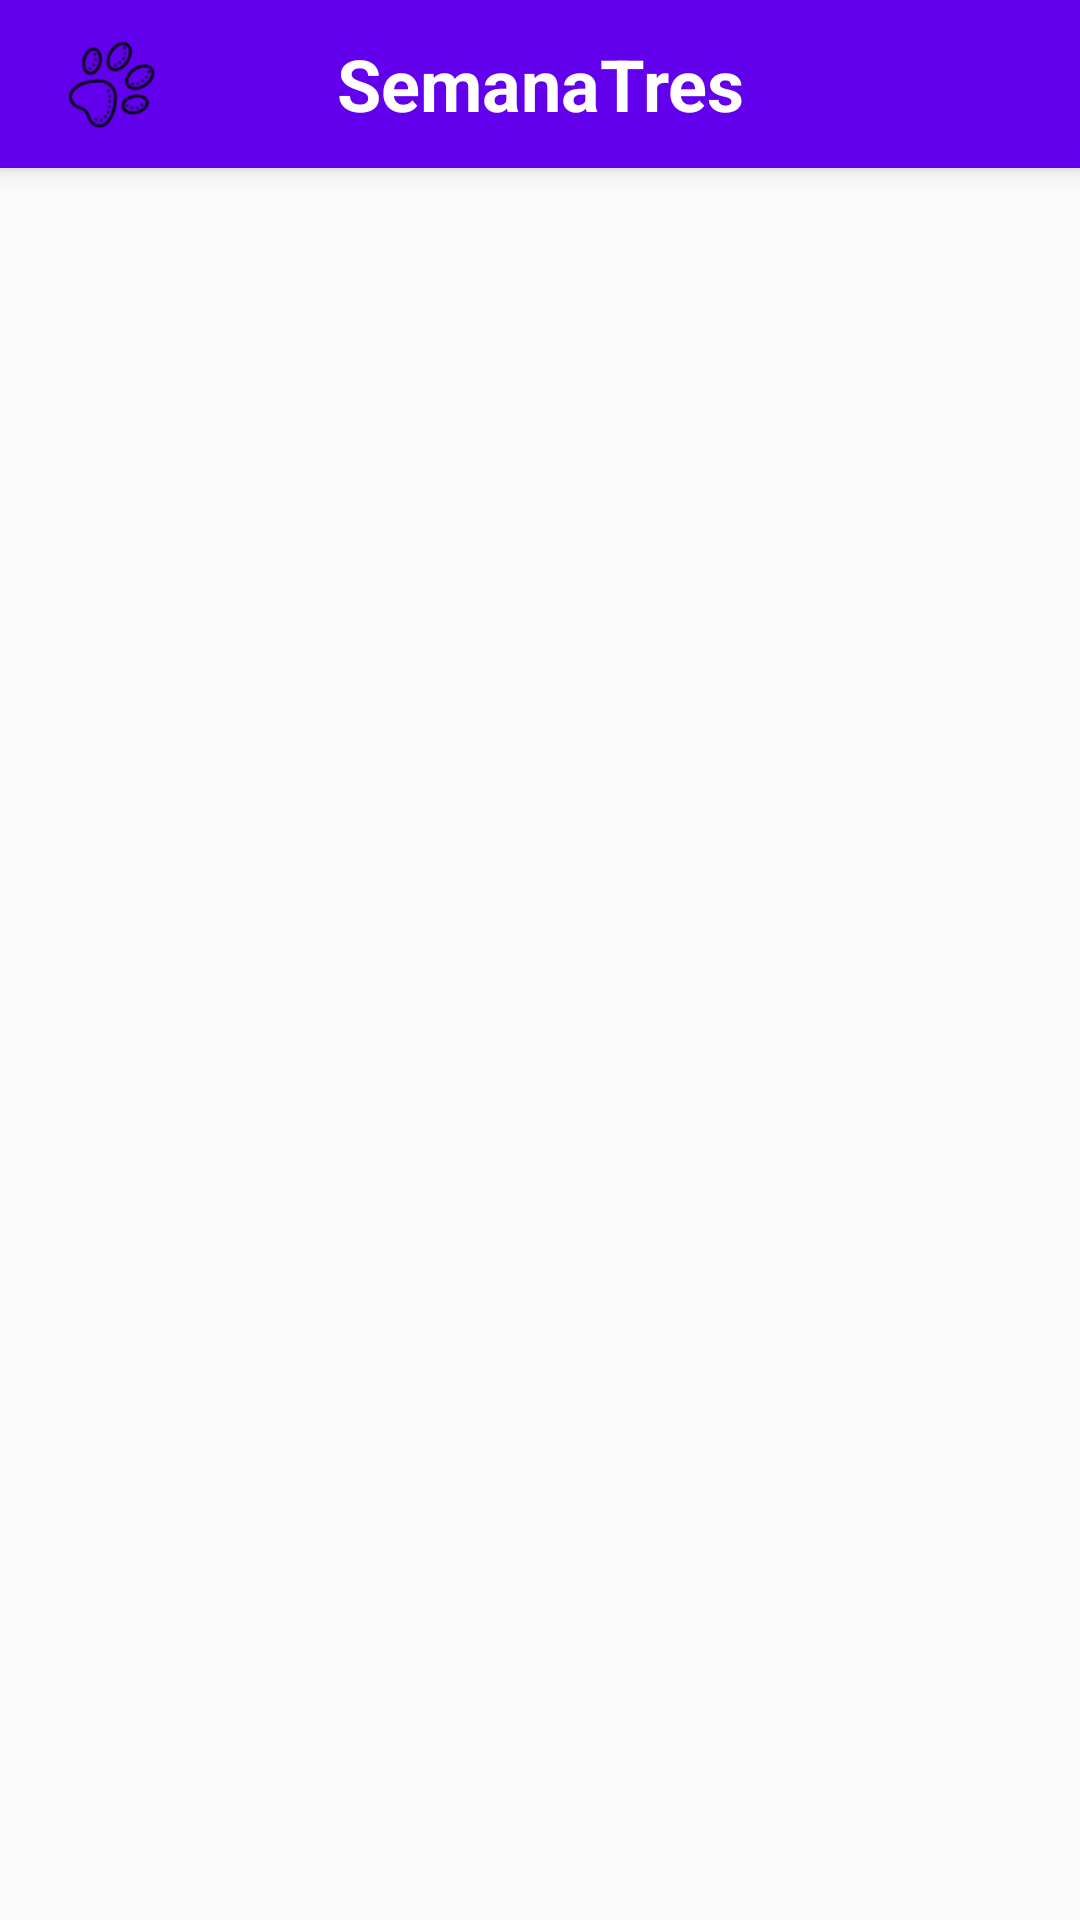

Icons on this 1080px x 1920px Android screen, each with its box as (x1, y1, x2, y2):
huella: (68, 41, 155, 128)
